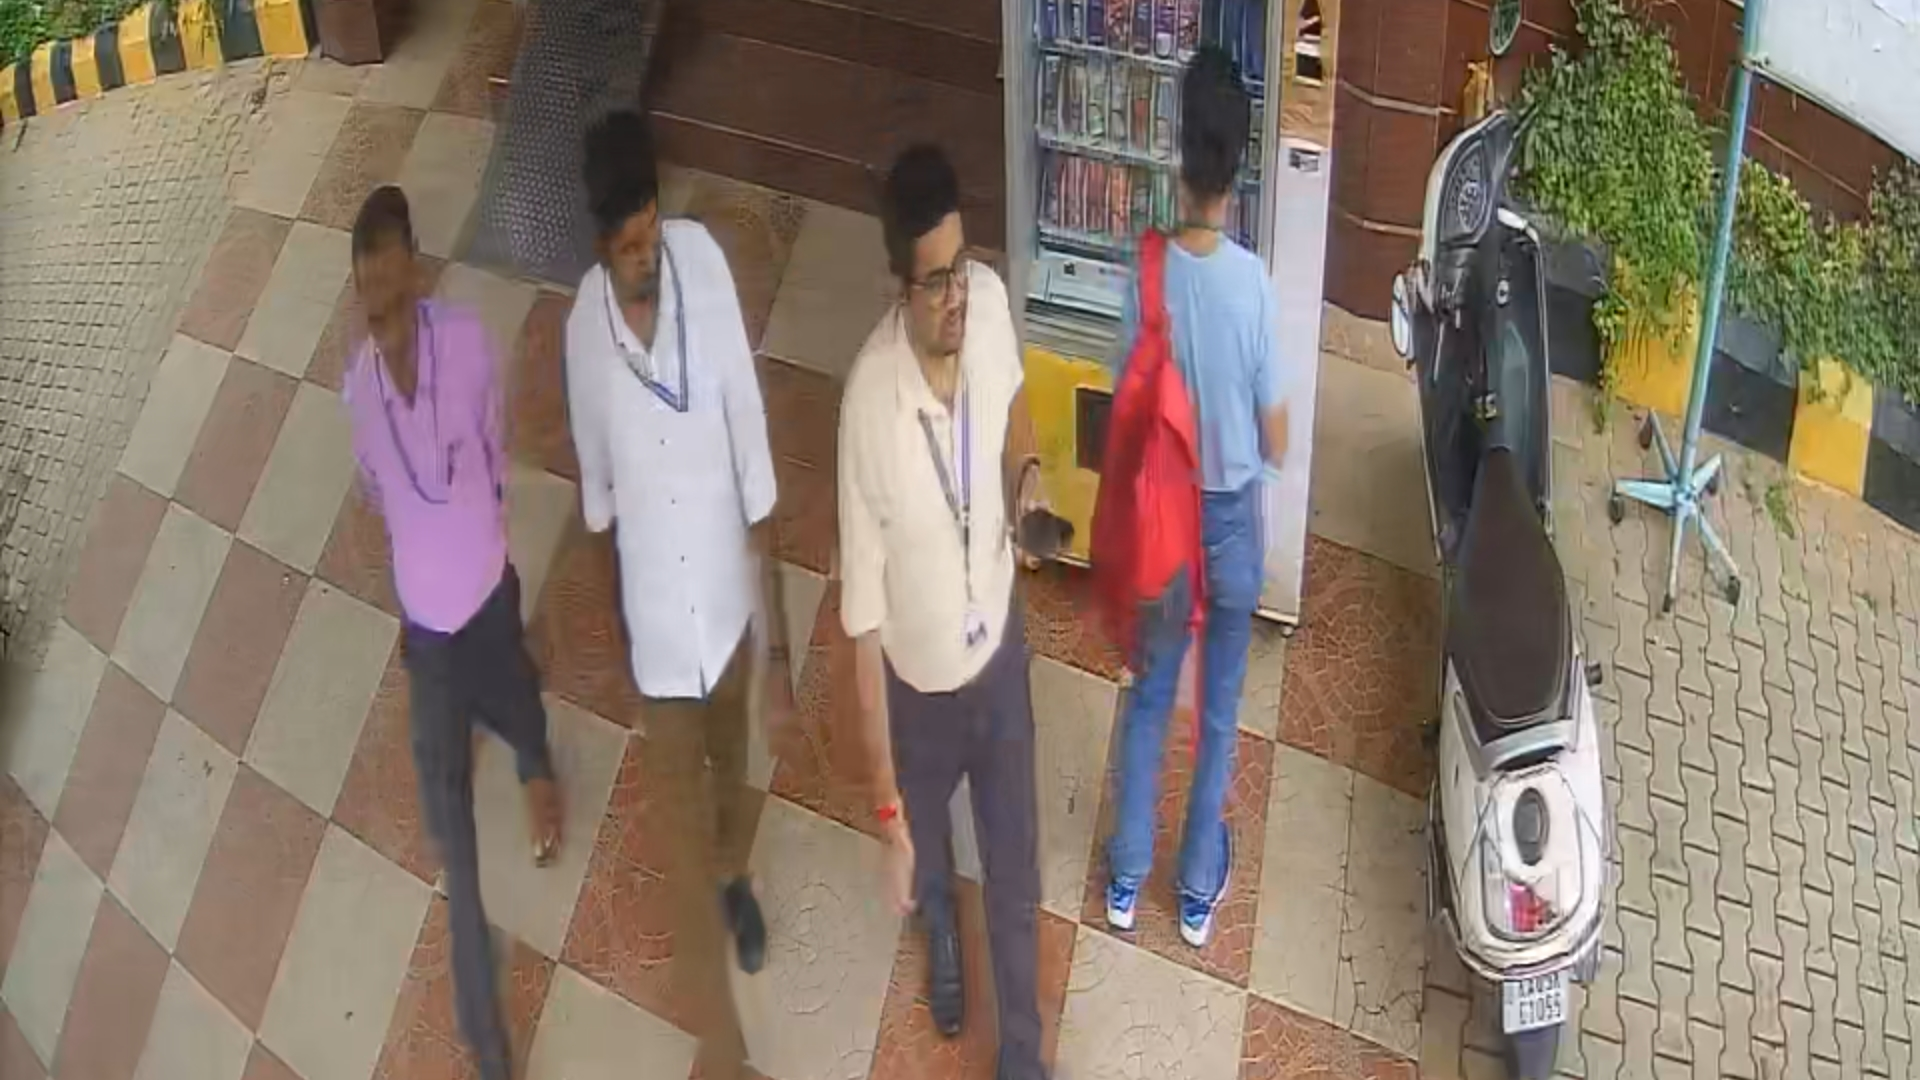not intruder: (313, 178, 570, 1080), (553, 112, 791, 1080), (836, 124, 1081, 1060)
